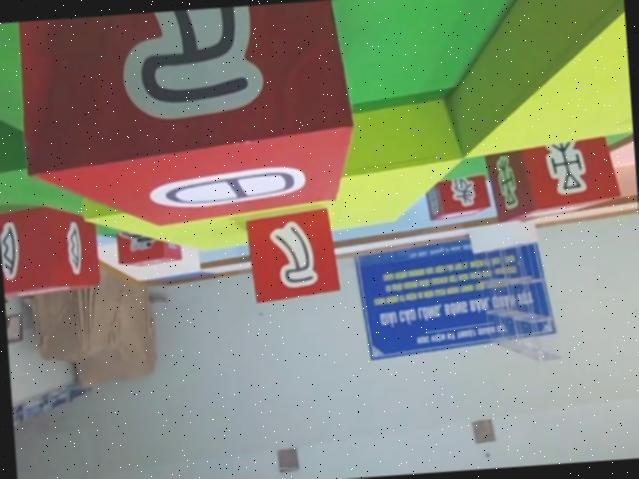R1: (112, 216, 182, 268)
R2 Fake: (8, 0, 361, 235), (243, 207, 341, 305), (423, 167, 490, 220)
R2 Real: (481, 133, 623, 223), (0, 201, 101, 298)
